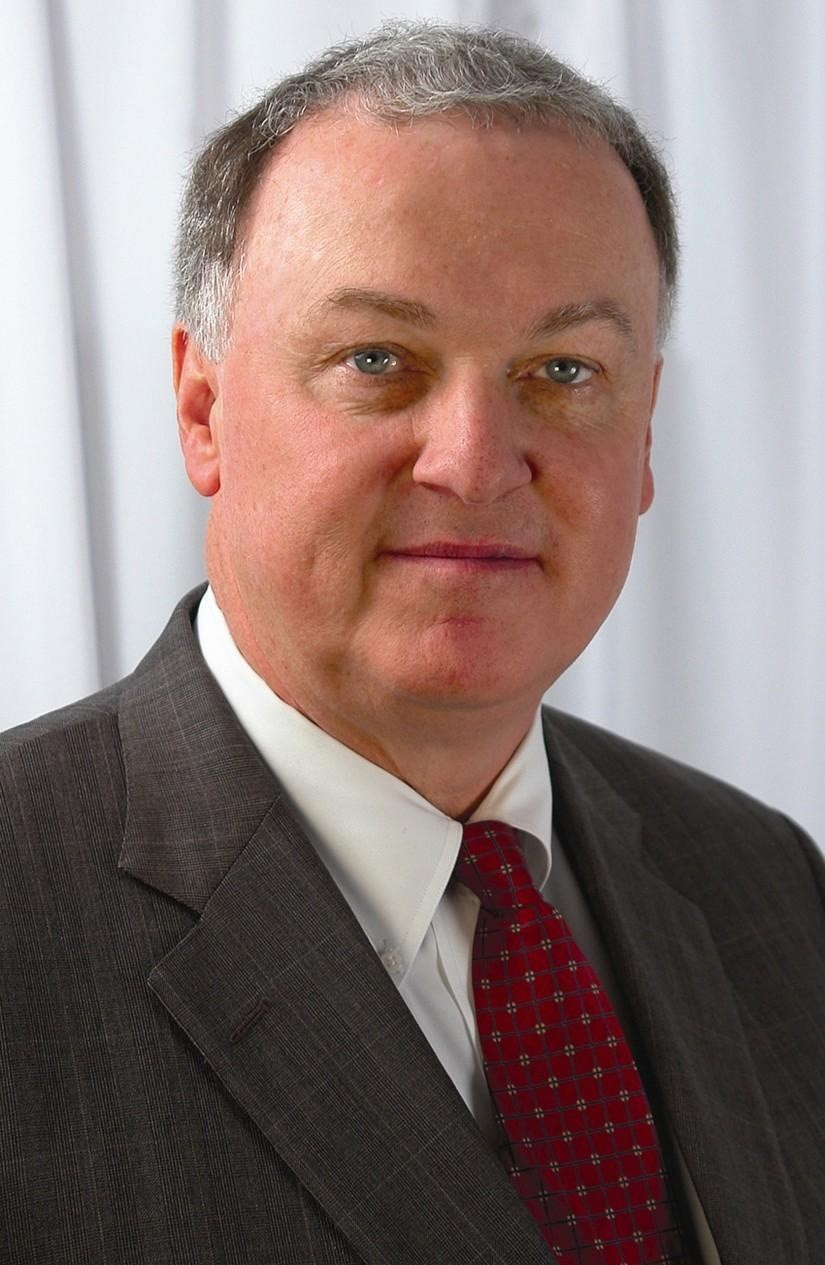face_no_mask: (168, 28, 673, 714)
